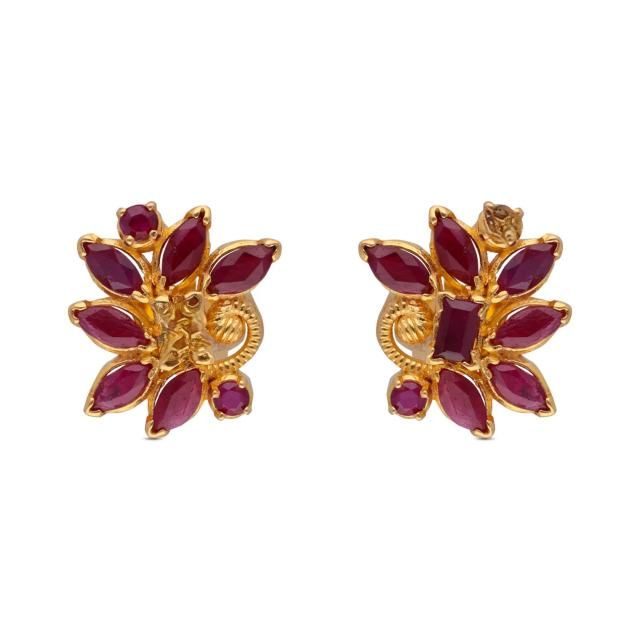missing gem: (155, 297, 210, 365), (485, 205, 522, 240)
